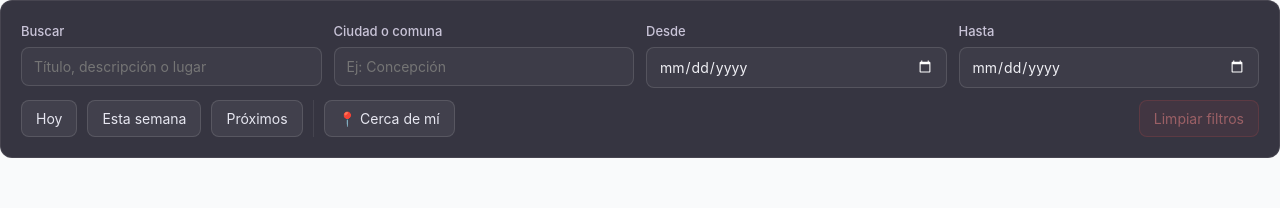
EventFilters — limpiar filtros › resets every field and the located-comuna notice
Type "rock" into the field labelled "Buscar".
click(171, 66); type("rock")  # box [21, 47, 322, 86]
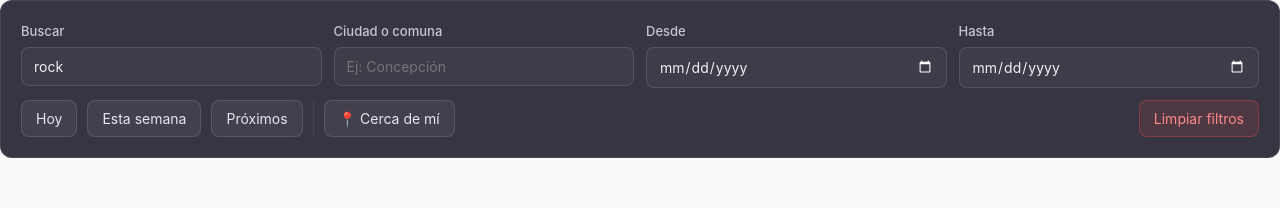
Type "2025-03-10" into the date field labelled "Desde".
click(796, 67); type("2025-03-10")  # box [646, 47, 946, 88]
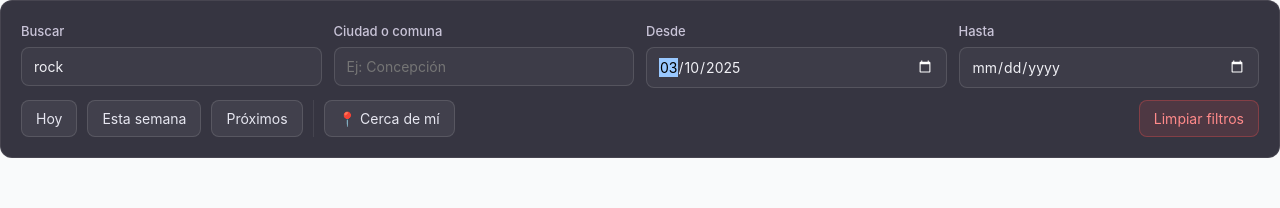
Click the button "📍 Cerca de mí".
click(389, 118)  # box [324, 100, 455, 137]
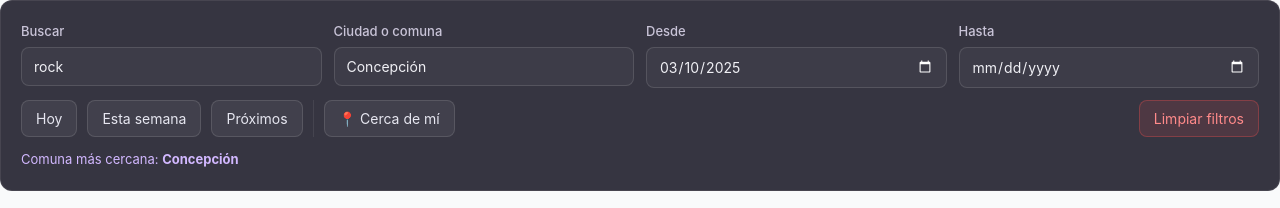
Now the message "Comuna más cercana: Concepción" is shown, box [21, 151, 239, 167]
Click the button "Limpiar filtros".
click(1199, 118)  # box [1139, 100, 1259, 137]
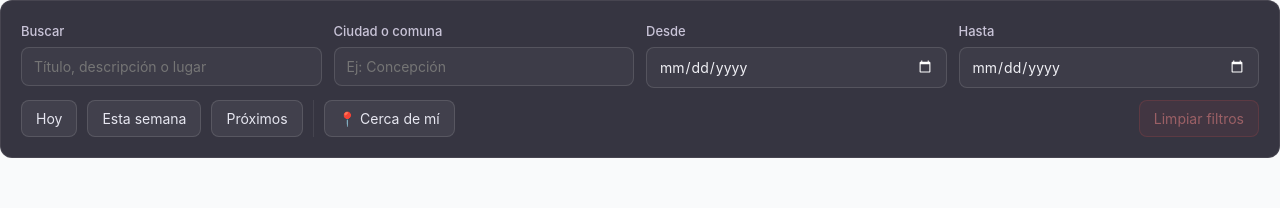
Now the field labelled "Buscar" is empty, box [21, 47, 322, 86]
Now the dropdown labelled "Ciudad o comuna" is empty, box [334, 47, 634, 86]
Now the date field labelled "Desde" is empty, box [646, 47, 946, 88]
